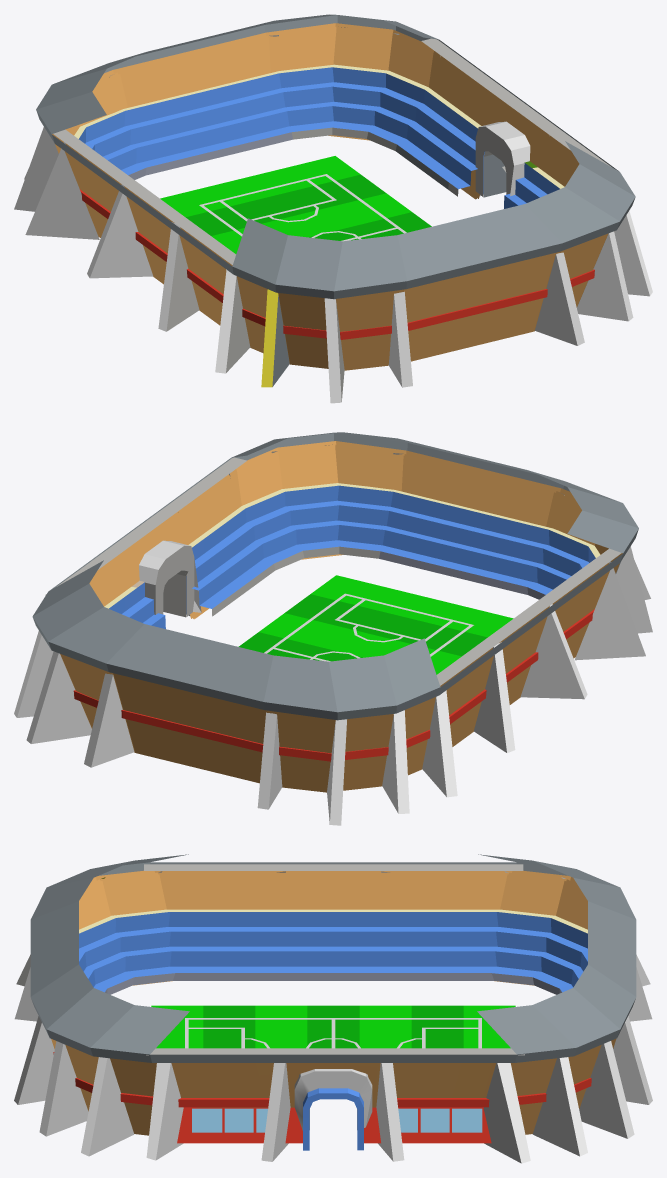
The model's file is daxingjianzhu_zuqiuchang.fbx.
3 views of the same model, one above another, from view 1: azimuth 30°, elevation 25°; view 2: azimuth 150°, elevation 25°; view 3: azimuth 270°, elevation 25° (orthographic).
Visible parts, largest first — view 1: daxingjianzhu_zuqiuchang; view 2: daxingjianzhu_zuqiuchang; view 3: daxingjianzhu_zuqiuchang.
Part boxes in pixels (box(x1,y1,x2,y2)): daxingjianzhu_zuqiuchang: box(14, 14, 652, 403); daxingjianzhu_zuqiuchang: box(14, 432, 652, 825); daxingjianzhu_zuqiuchang: box(14, 854, 652, 1163).
Size of the model in its own units: 2571 by 3277 by 717.
